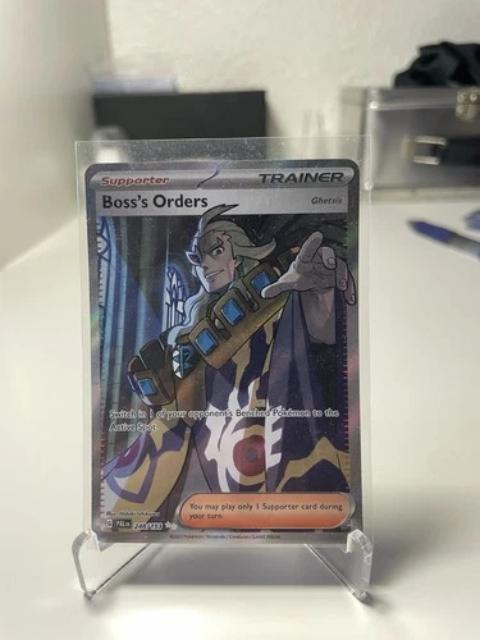Card: (79, 153, 370, 546)
Name: (97, 189, 209, 212)
